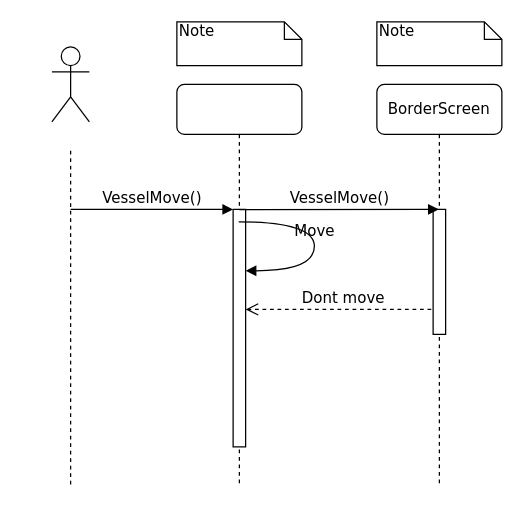
Some shapes in this 524 by 508 pixel diagram are drawn without their labels. Each missing label, with the box of its shape:
Vessel: (176, 83, 302, 484)
Vessel (player): (51, 46, 89, 122)
